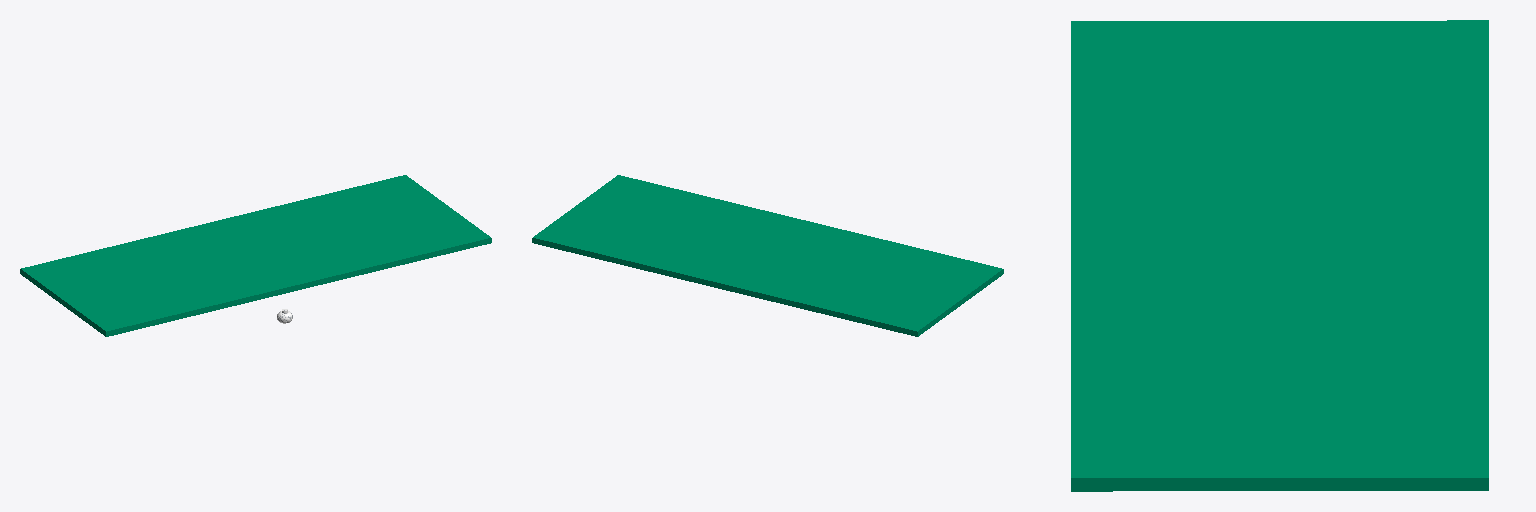
URDF robot description (right-push-door):
<robot name="right-push-door">
	<link name="base" />
	<link name="link_0">
		<visual name="out-frame">
			<origin xyz="0 0 0" />
			<geometry>
				<mesh filename="texture_dae/frame.dae" scale="1.0499165061329483 1.0499165061329483 1.0499165061329483" />
			</geometry>
		</visual>
		<collision>
			<origin xyz="0 0 0" />
			<geometry>
				<mesh filename="texture_dae/frame.dae" scale="1.0499165061329483 1.0499165061329483 1.0499165061329483" />
			</geometry>
		</collision>
	</link>
	<joint name="joint_0" type="fixed">
		<origin rpy="1.570796326794897 0 -1.570796326794897" xyz="0 0 0" />
		<child link="link_0" />
		<parent link="base" />
	</joint>
	<link name="link_1">
		<visual name="surf-board">
			<origin xyz="0.35548661474075605 -0.9118568867319342 0" />
			<geometry>
				<mesh filename="texture_dae/board.dae" scale="1.0499165061329483 1.0499165061329483 1.0499165061329483" />
			</geometry>
		</visual>
		<collision>
			<origin xyz="0.35548661474075605 -0.9118568867319342 0" />
			<geometry>
				<mesh filename="texture_dae/board.dae" scale="1.0499165061329483 1.0499165061329483 1.0499165061329483" />
			</geometry>
		</collision>
	</link>
	<joint name="joint_1" type="revolute">
		<origin xyz="-0.35548661474075605 0.9118568867319342 0" />
		<axis xyz="0 -1 0" />
		<child link="link_1" />
		<parent link="link_0" />
		<limit lower="-1.5079644737231006" upper="-0.0" />
	</joint>
	<link name="link_2">
		<visual name="handle">
			<origin xyz="0 0 0" />
			<geometry>
				<mesh filename="texture_dae/9962026.dae" scale="0.8126980225668411 0.8126980225668411 0.8126980225668411" />
			</geometry>
		</visual>
		<collision>
			<origin xyz="0 0 0" />
			<geometry>
				<mesh filename="texture_dae/9962026.dae" scale="0.8126980225668411 0.8126980225668411 0.8126980225668411" />
			</geometry>
		</collision>
	</link>
	<joint name="joint_2" type="revolute">
		<origin xyz="0.6310941617696302 -1.0419557225686051 0.012592001396840913" />
		<child link="link_2" />
		<parent link="link_1" />
		<axis xyz="0 0 1" />
		<limit lower="0" upper="0" />
	</joint>
</robot>

--- What the picture shows (computed from the rendered views, not written in the file) ---
3 views of the same robot in one strip: view 1: azimuth 30°, elevation 25°; view 2: azimuth 150°, elevation 25°; view 3: azimuth 270°, elevation 25° (orthographic).
Robot: right-push-door — 4 links, 3 joints (2 revolute, 1 fixed); root link base; default pose: every joint at zero.
Visible links, largest first — view 1: link_1; view 2: link_1; view 3: link_1.
Link boxes in pixels (left/top/right/bottom): link_1: left=20, top=175, right=491, bottom=336; link_1: left=532, top=175, right=1003, bottom=336; link_1: left=1071, top=20, right=1488, bottom=491.
Bounding box of the posed robot: 1.84 × 0.7111 × 0.1962 m (x, y, z).
2 mesh visuals loaded from 3 distinct referenced files (2 Collada DAE); not drawn: 1 (reference not matched to a file when rendering).
